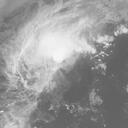cyclone: (28, 20, 92, 89)
